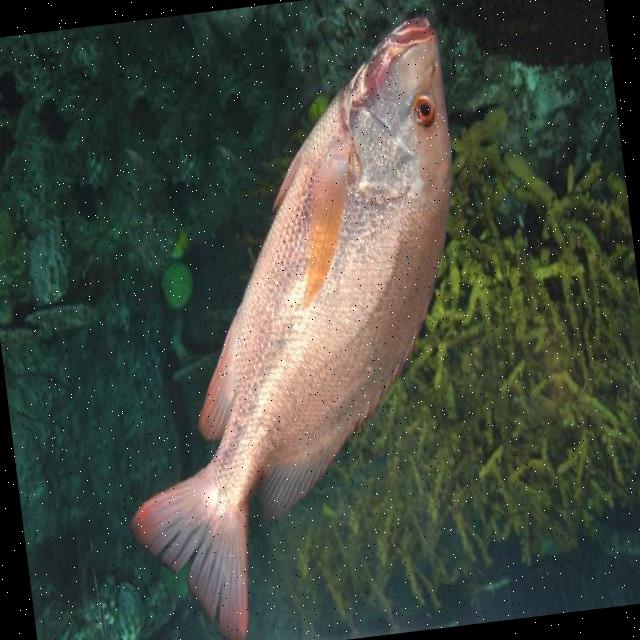ikan: (72, 11, 513, 640)
